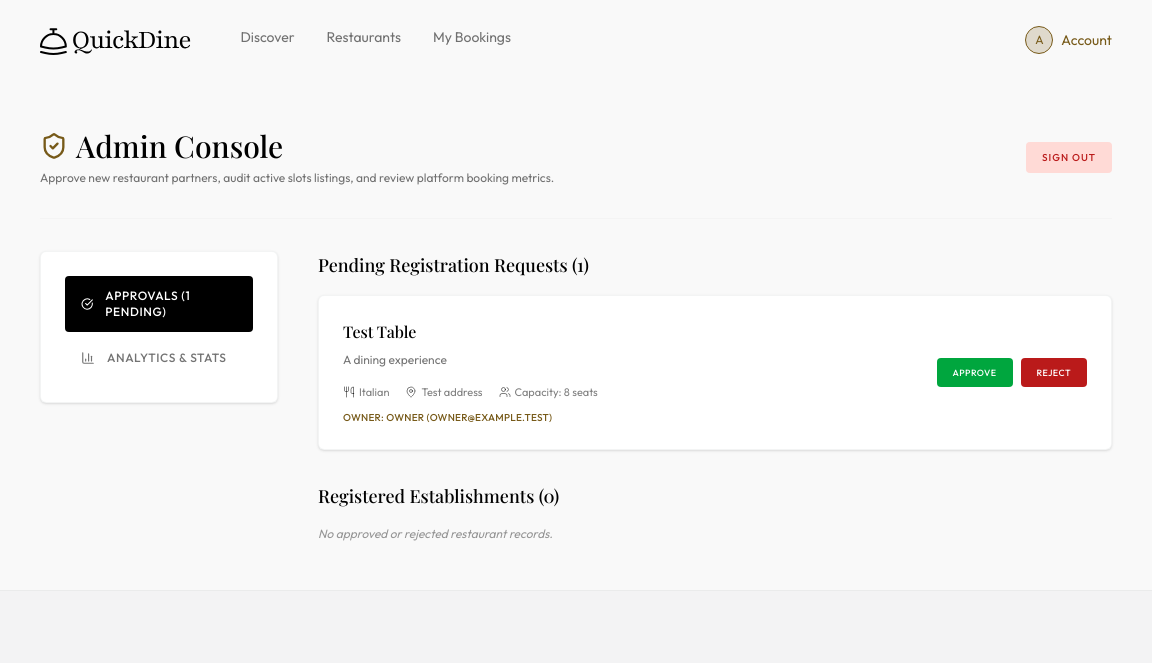
it: complete page journeys › admin approves, suspends and re-approves restaurant then views metrics
Step 1. Click the button "Approve" → (975, 373), box [937,358,1013,387]
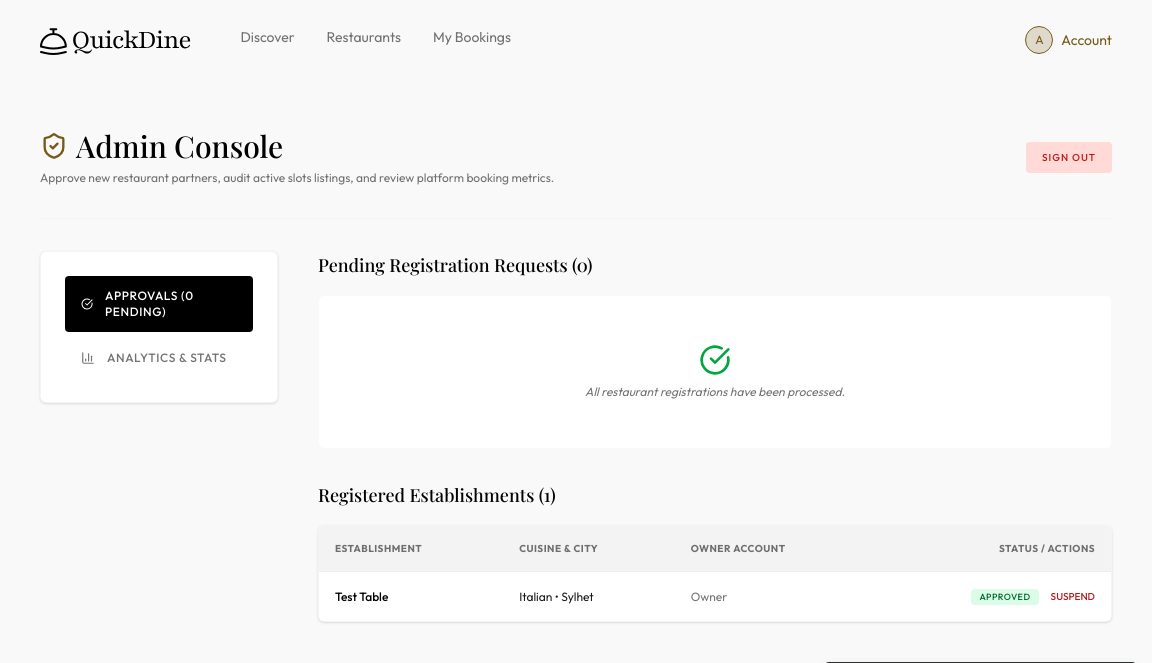
Step 2. Click the button "Suspend" → (1073, 597), box [1050,590,1095,604]
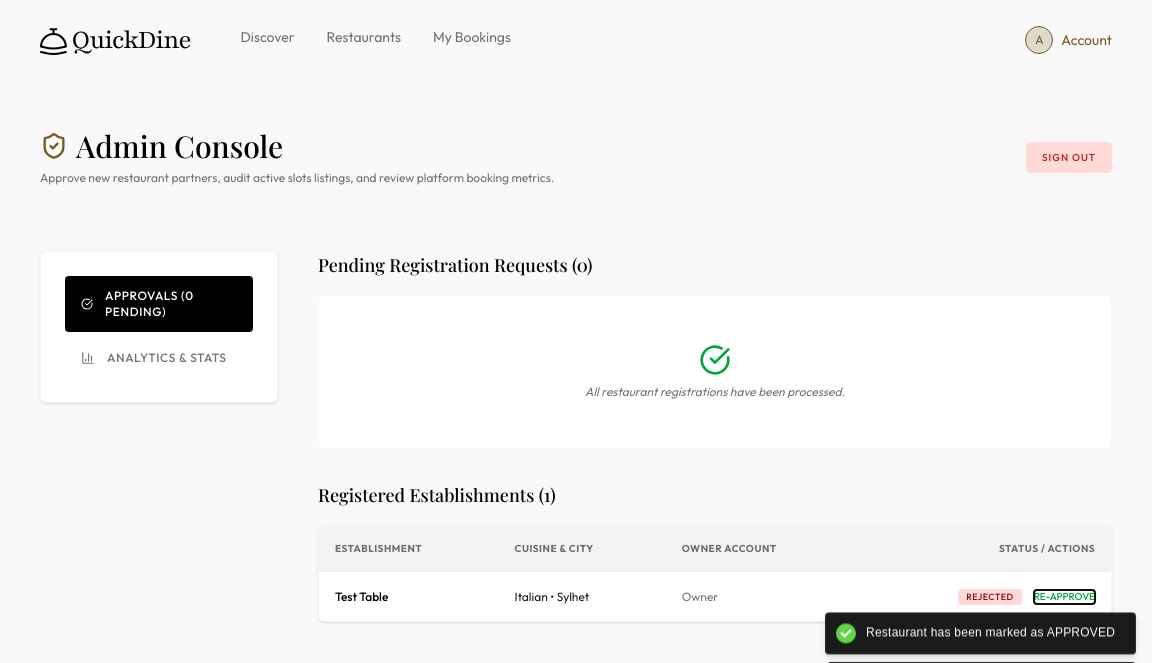
Step 3. Click the button "Re-Approve" → (1064, 597), box [1034,590,1095,604]
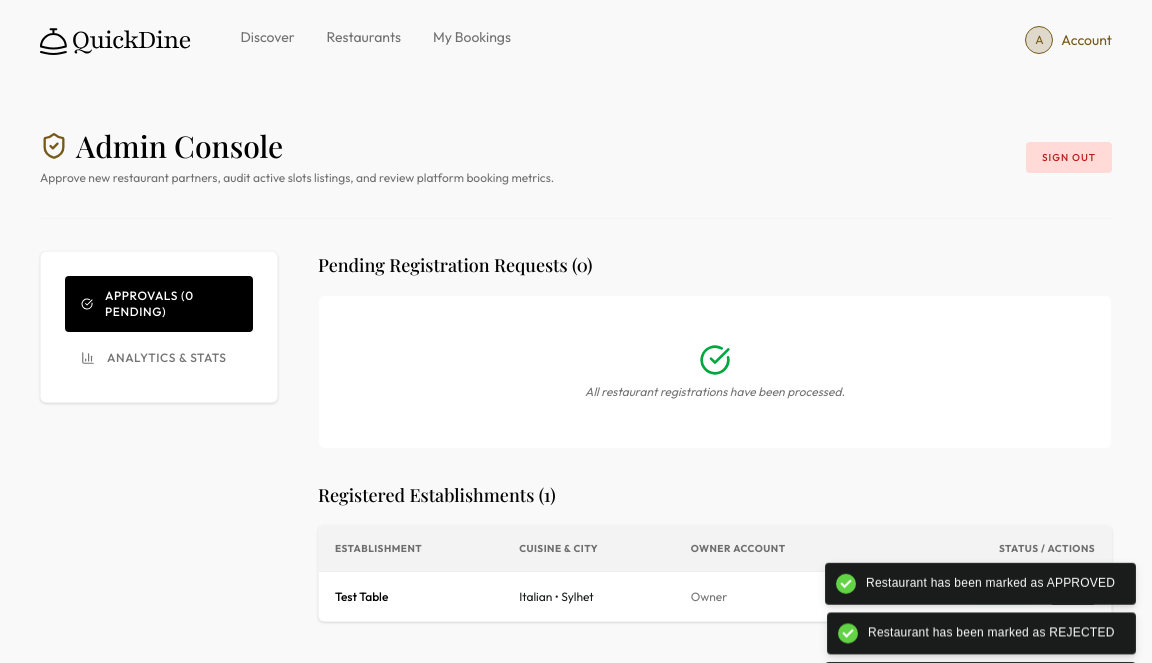
Now the button "Suspend" is shown, box [1050,590,1095,604]
Step 4. Click the button "Analytics & Stats" → (159, 358), box [65,338,253,378]
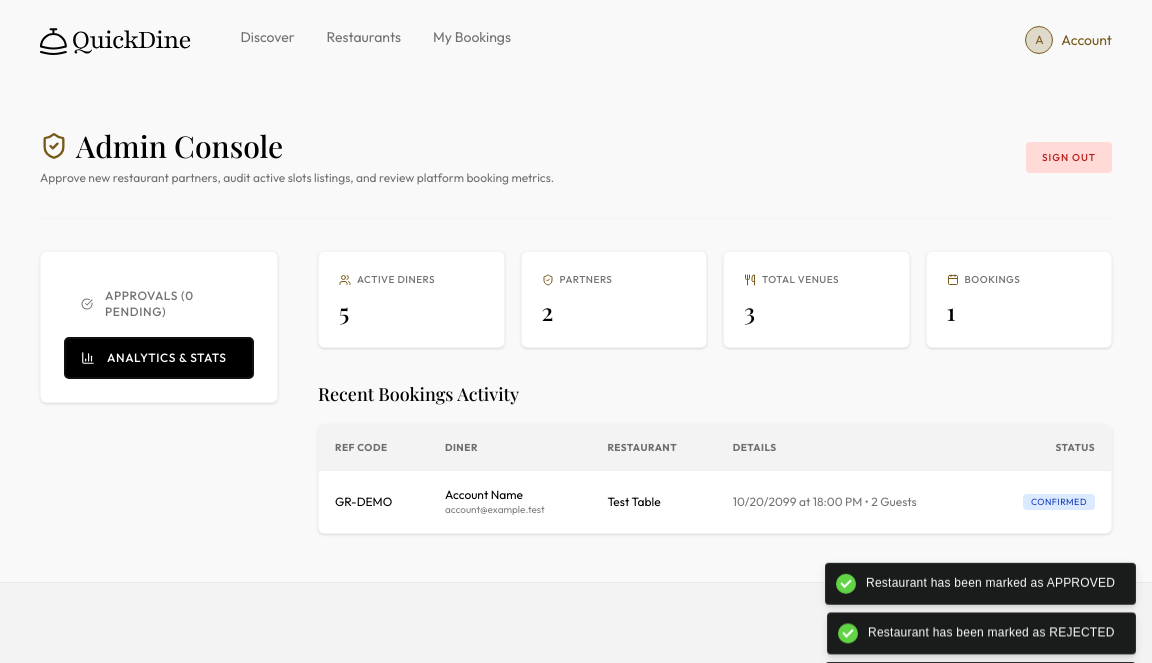
Now the text "Active Diners" is shown, box [339,273,435,286]
Now the text "GR-DEMO" is shown, box [319,471,429,533]
